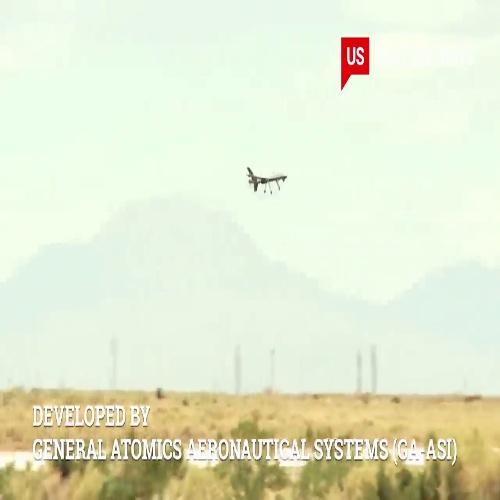uav: (244, 165, 289, 194)
